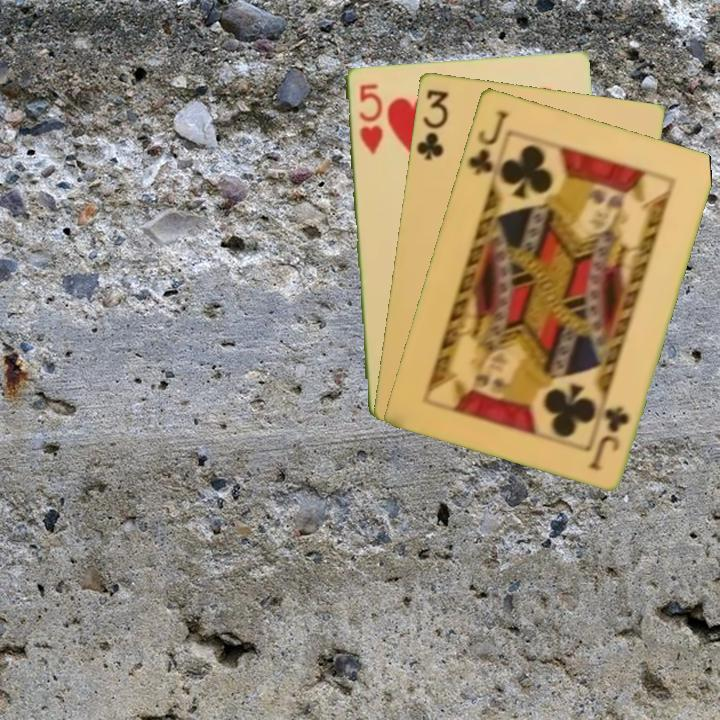3c: (412, 85, 451, 163)
5h: (355, 79, 385, 157)
Jc: (586, 402, 632, 474), (465, 106, 510, 178)
